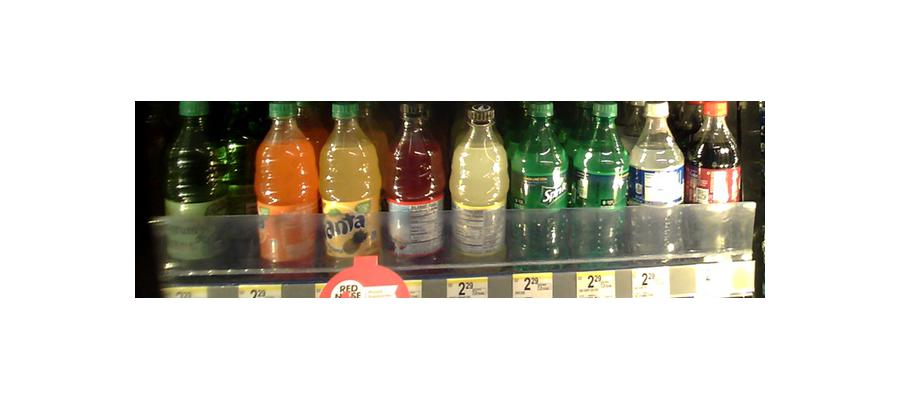bottle: (255, 99, 319, 274), (320, 102, 380, 270), (570, 99, 630, 265), (511, 102, 568, 264), (630, 95, 686, 257), (387, 104, 444, 263), (451, 103, 507, 264), (164, 101, 213, 271), (688, 101, 740, 260), (212, 103, 252, 264)
